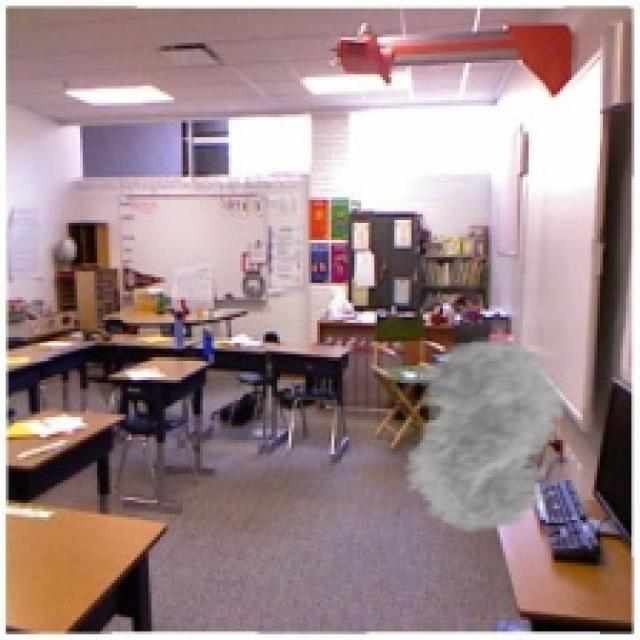Smoke: (383, 334, 583, 534)
